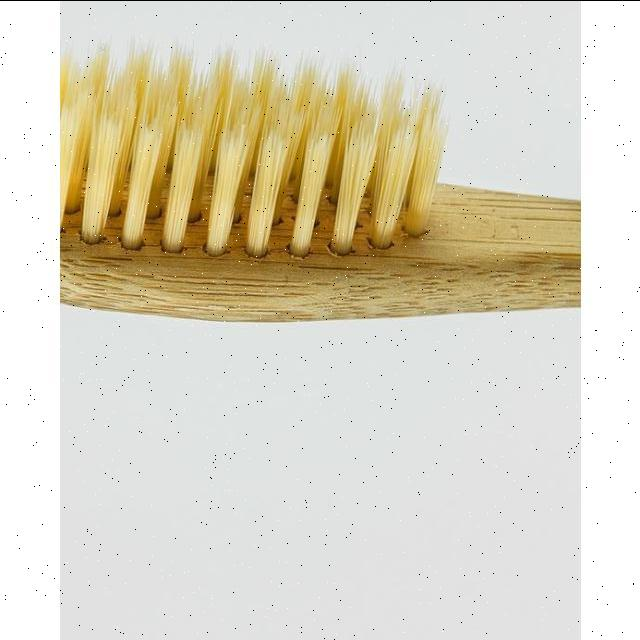toothbrush: (59, 0, 580, 380)
